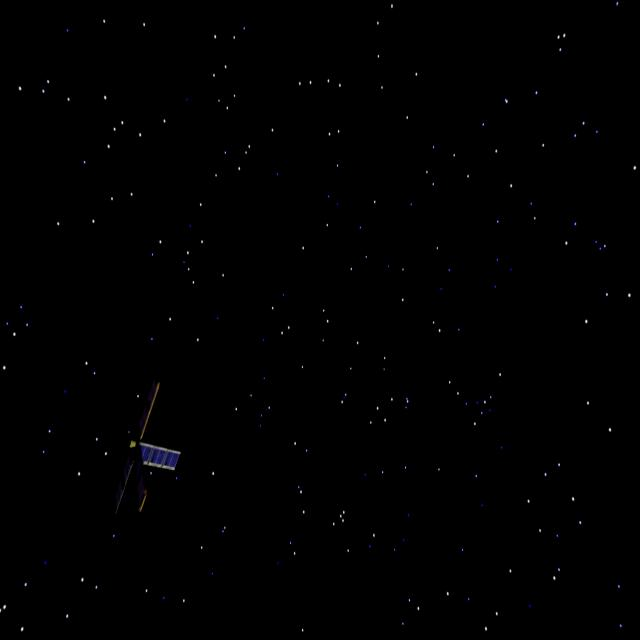medium_debris: (98, 376, 188, 522)
